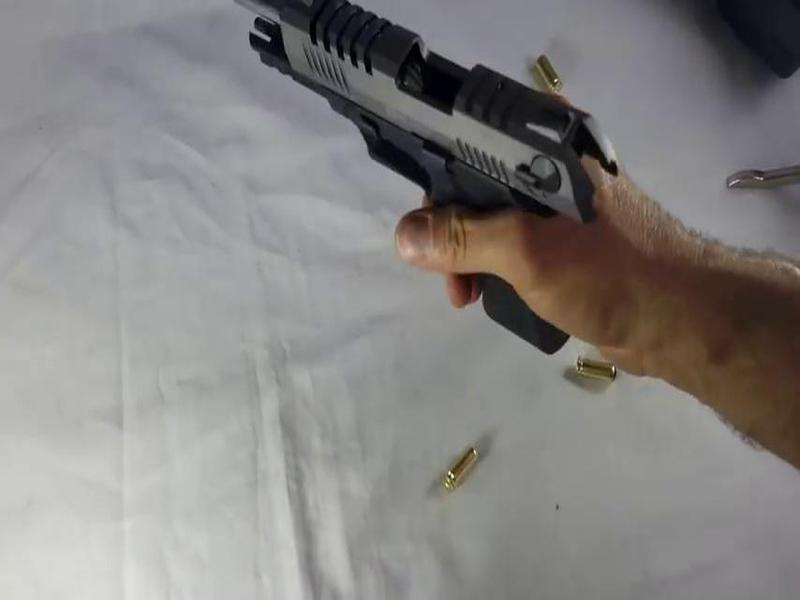Pistola: (234, 1, 618, 378)
